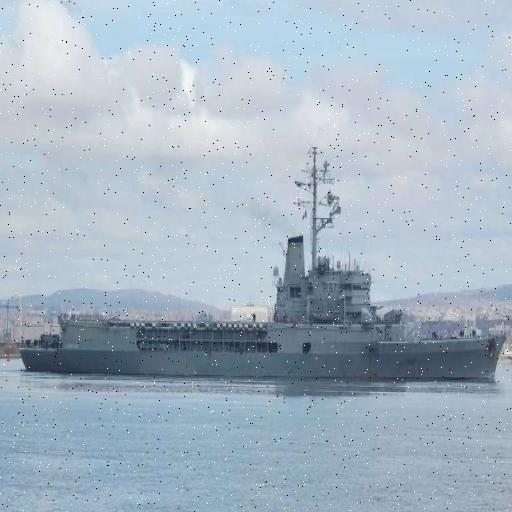Portanaves: (11, 119, 509, 389)
